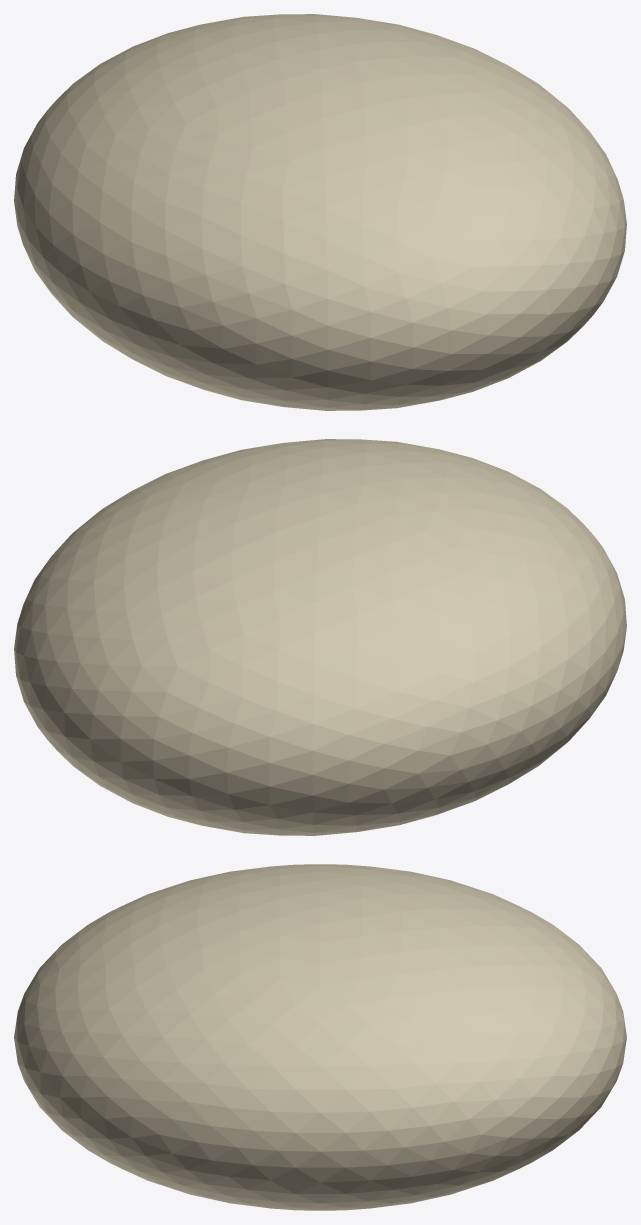
File: eye_glint_left.obj
3 renders of one model, top to bottom at view 1: azimuth 30°, elevation 25°; view 2: azimuth 150°, elevation 25°; view 3: azimuth 270°, elevation 25°, orthographic. The views are drawn at different scales.
Size of the model in its own units: 0.003 by 0.0016 by 0.0034.
